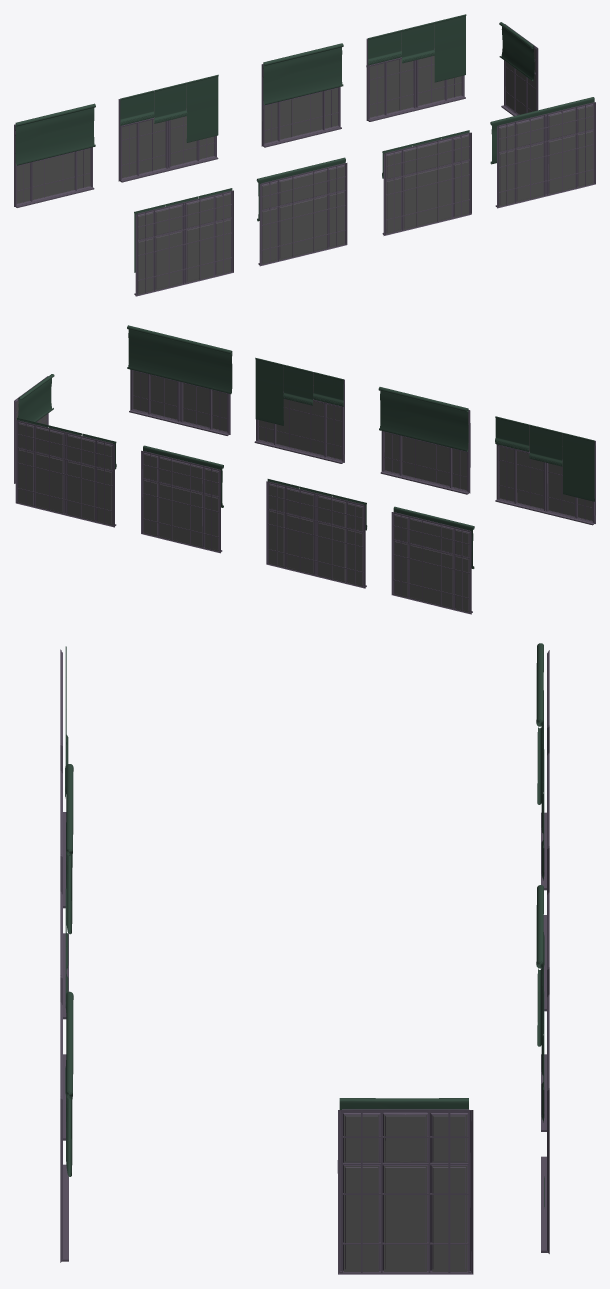
File: Glass.FBX
3 views of the same model, one above another, from view 1: azimuth 30°, elevation 25°; view 2: azimuth 150°, elevation 25°; view 3: azimuth 270°, elevation 25° (orthographic). The views are drawn at different scales.
Parts seen in each view (by area): view 1: Glass (×9); view 2: Glass (×9); view 3: Glass (×9).
Boxes of the visible parts, left/top/right/bottom form: Glass (×9): left=14, top=14, right=595, bottom=296; Glass (×9): left=14, top=325, right=595, bottom=614; Glass (×9): left=60, top=643, right=549, bottom=1274.
Bounding box in the file's own units: 52.26 × 9.08 × 23.45.
3 materials, 3 textured.
